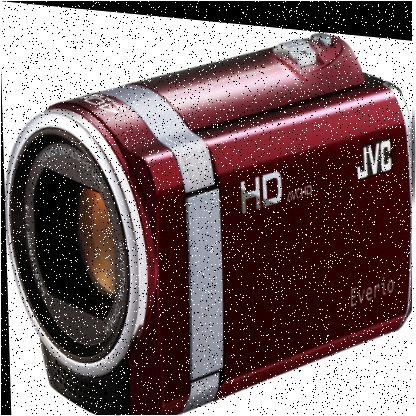Camera: (3, 2, 416, 416)
